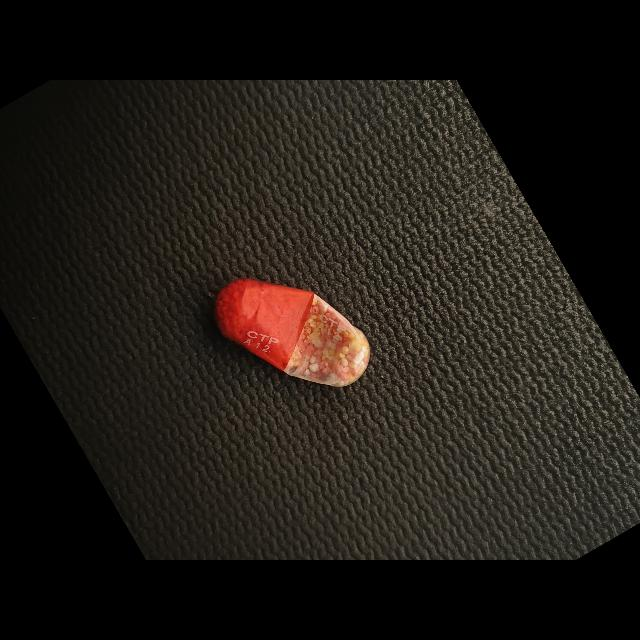Defective Capsule: (214, 278, 370, 387)
